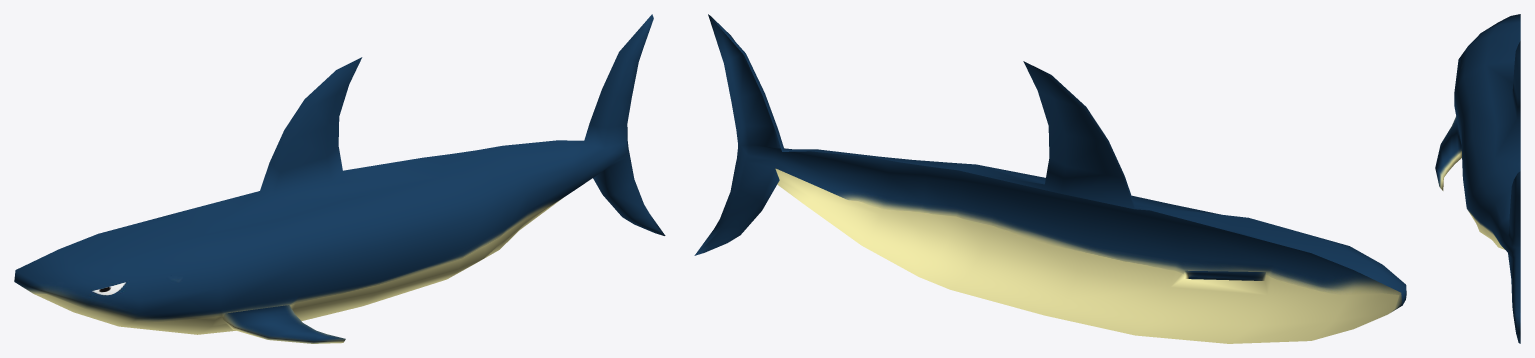
File: fish.FBX
The picture shows the model from 3 angles, left to right: view 1: azimuth 30°, elevation 25°; view 2: azimuth 150°, elevation 25°; view 3: azimuth 270°, elevation 25°; orthographic projection. The views are drawn at different scales.
Visible parts, largest first — view 1: Box001; view 2: Box001; view 3: Box001.
Part boxes in pixels (x1=…): Box001: x1=14, y1=14, x2=665, y2=343; Box001: x1=694, y1=14, x2=1406, y2=343; Box001: x1=1435, y1=14, x2=1520, y2=343.
Size of the model in its own units: 620 by 230 by 94.5.
1 material, 1 textured.
